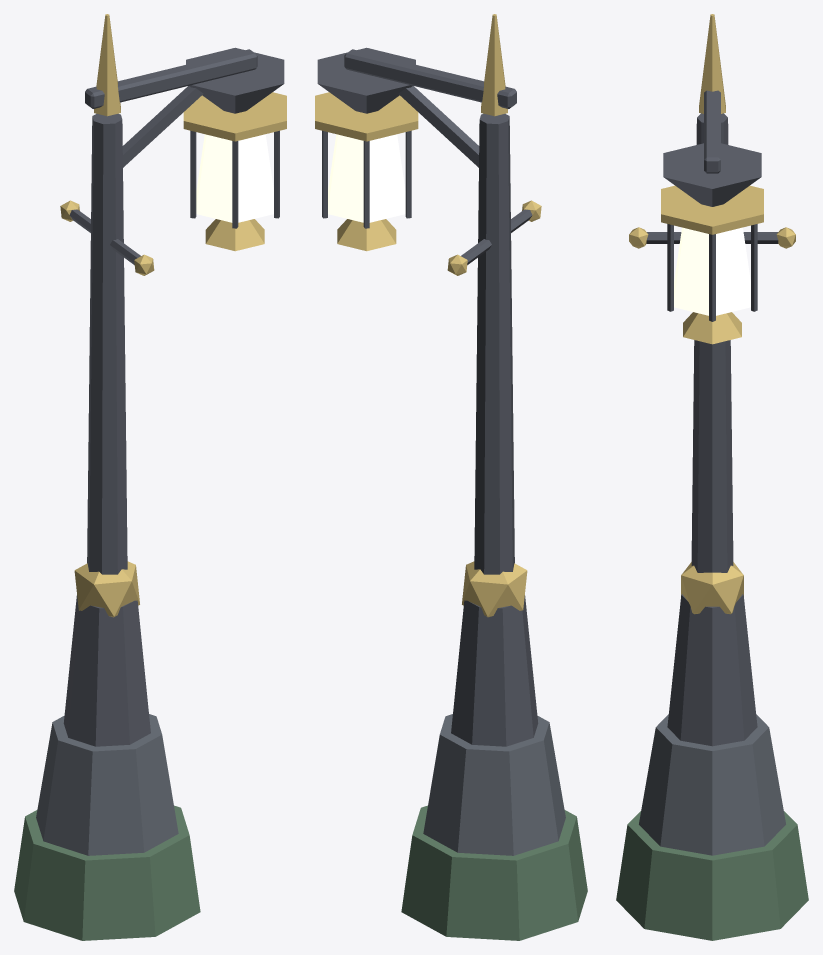
The model's file is outdoor_lamppost.glb.
3 views of the same model, side by side, from view 1: azimuth 30°, elevation 25°; view 2: azimuth 150°, elevation 25°; view 3: azimuth 270°, elevation 25° (orthographic).
Visible parts, largest first — view 1: Outdoor_Lamppost; view 2: Outdoor_Lamppost; view 3: Outdoor_Lamppost.
Boxes of the visible parts, x1,y1,x2,y2 form: Outdoor_Lamppost: (14,14,286,940); Outdoor_Lamppost: (315,14,587,940); Outdoor_Lamppost: (616,14,808,940).
Bounding box in the file's own units: 1.44 × 4.65 × 0.918.
